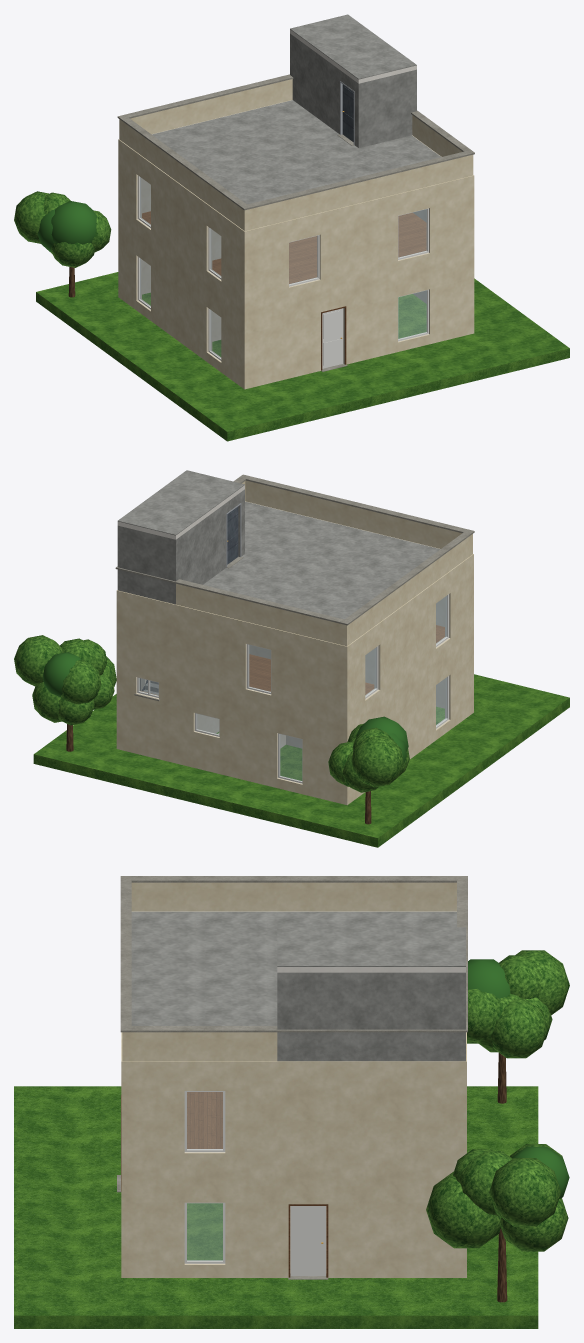
The model's file is b_minimal_white_box.gltf.
3 renders of one model, top to bottom at view 1: azimuth 30°, elevation 25°; view 2: azimuth 150°, elevation 25°; view 3: azimuth 270°, elevation 25°, orthographic. The views are drawn at different scales.
Parts seen in each view (by area): view 1: S_minimal_white_box, D_minimal_white_box_F1_S1_Door0, D_minimal_white_box_PH_W0_Door0; view 2: S_minimal_white_box, D_minimal_white_box_PH_W0_Door0; view 3: S_minimal_white_box, D_minimal_white_box_F1_E1_Door0.
Boxes of the visible parts, x1,y1,x2,y2 form: S_minimal_white_box: (14,14,569,441); D_minimal_white_box_F1_S1_Door0: (322,308,343,368); D_minimal_white_box_PH_W0_Door0: (342,84,353,141); S_minimal_white_box: (14,470,569,847); D_minimal_white_box_PH_W0_Door0: (227,506,238,564); S_minimal_white_box: (14,876,569,1328); D_minimal_white_box_F1_E1_Door0: (290,1206,325,1275).
Size of the model in its own units: 16.76 by 9.9 by 15.37.
21 materials, 14 textured.
